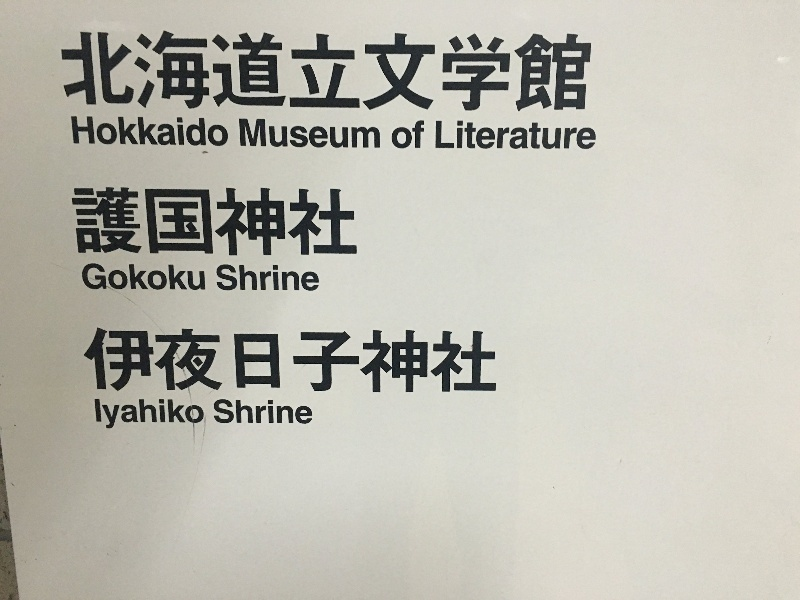text: (65, 30, 80, 119), (81, 30, 96, 119), (97, 30, 112, 119), (113, 30, 128, 119), (129, 30, 144, 119), (145, 30, 160, 119), (161, 30, 176, 119), (177, 30, 192, 119), (193, 30, 208, 119), (209, 30, 224, 119), (225, 30, 240, 119), (241, 30, 256, 119), (257, 30, 272, 119), (273, 30, 288, 119), (289, 30, 304, 119), (305, 30, 320, 119), (321, 30, 336, 119), (337, 30, 352, 119), (353, 30, 368, 119), (369, 30, 384, 119), (385, 30, 400, 119), (401, 30, 416, 119), (417, 30, 432, 119), (433, 30, 448, 119), (449, 30, 464, 119), (465, 30, 480, 119), (481, 30, 496, 119), (497, 30, 512, 119), (513, 30, 528, 119), (529, 30, 544, 119), (545, 30, 560, 119), (561, 30, 576, 119), (577, 30, 592, 119), (81, 184, 96, 260), (97, 184, 112, 260), (113, 184, 128, 260), (129, 184, 144, 260), (145, 184, 160, 260), (161, 184, 176, 260), (177, 184, 192, 260), (193, 184, 208, 260), (209, 184, 224, 260), (225, 184, 240, 260), (241, 184, 256, 260), (257, 184, 272, 260), (273, 184, 288, 260), (289, 184, 304, 260), (305, 184, 320, 260), (321, 184, 336, 260), (337, 184, 352, 260), (97, 327, 112, 400), (113, 327, 128, 400), (129, 327, 144, 400), (145, 327, 160, 400), (161, 327, 176, 400), (177, 327, 192, 400), (193, 327, 208, 400), (209, 327, 224, 400), (225, 327, 240, 400), (241, 327, 256, 400), (257, 327, 272, 400), (273, 327, 288, 400), (289, 327, 304, 400), (305, 327, 320, 400), (321, 327, 336, 400), (337, 327, 352, 400), (353, 327, 368, 400), (369, 327, 384, 400), (385, 327, 400, 400), (401, 327, 416, 400), (417, 327, 432, 400), (433, 327, 448, 400), (449, 327, 464, 400), (465, 327, 480, 400), (481, 327, 496, 400), (83, 327, 96, 400), (55, 30, 64, 119), (353, 184, 362, 260), (72, 184, 80, 260), (449, 119, 464, 154), (465, 119, 480, 154), (481, 119, 496, 154), (497, 119, 512, 154), (513, 119, 528, 154), (529, 119, 544, 154), (545, 119, 560, 154), (561, 119, 576, 154), (577, 119, 592, 154), (305, 262, 321, 294), (81, 115, 96, 149), (97, 115, 112, 149), (113, 115, 128, 149), (129, 115, 144, 149), (145, 115, 160, 149), (161, 115, 176, 149), (177, 115, 192, 149), (193, 115, 208, 149), (209, 115, 224, 149), (241, 116, 256, 150), (257, 116, 272, 150), (273, 116, 288, 150), (289, 116, 304, 150), (305, 116, 320, 150), (321, 116, 336, 150), (337, 116, 352, 150), (353, 116, 368, 150), (225, 262, 240, 294), (241, 262, 256, 294), (257, 262, 272, 294), (273, 262, 288, 294), (289, 262, 304, 294), (97, 399, 112, 430), (113, 399, 128, 430), (129, 399, 144, 430), (145, 399, 160, 430), (161, 399, 176, 430), (177, 399, 192, 430), (435, 119, 448, 154), (401, 120, 416, 150), (97, 263, 112, 293), (113, 263, 128, 293), (129, 263, 144, 293), (145, 263, 160, 293), (161, 263, 176, 293), (177, 263, 192, 293), (193, 263, 208, 293), (225, 399, 240, 427), (241, 399, 256, 427), (257, 399, 272, 427), (273, 399, 288, 427), (289, 399, 304, 427), (369, 116, 381, 150), (83, 263, 96, 293), (593, 30, 597, 119), (193, 399, 204, 430), (70, 115, 80, 149), (213, 399, 224, 427), (305, 399, 314, 427), (417, 120, 425, 150), (217, 262, 224, 294), (393, 120, 400, 150), (593, 119, 599, 154), (225, 115, 229, 149), (93, 399, 96, 430), (497, 327, 498, 400), (239, 116, 240, 150)
